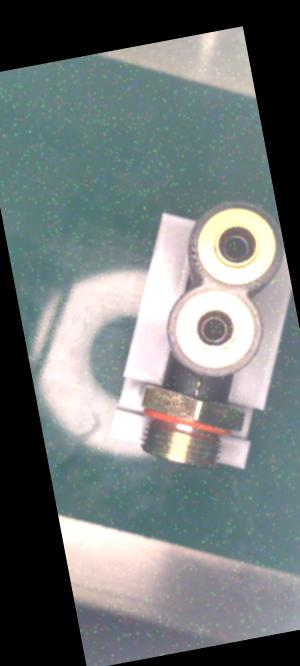craze: (190, 376, 207, 400)
